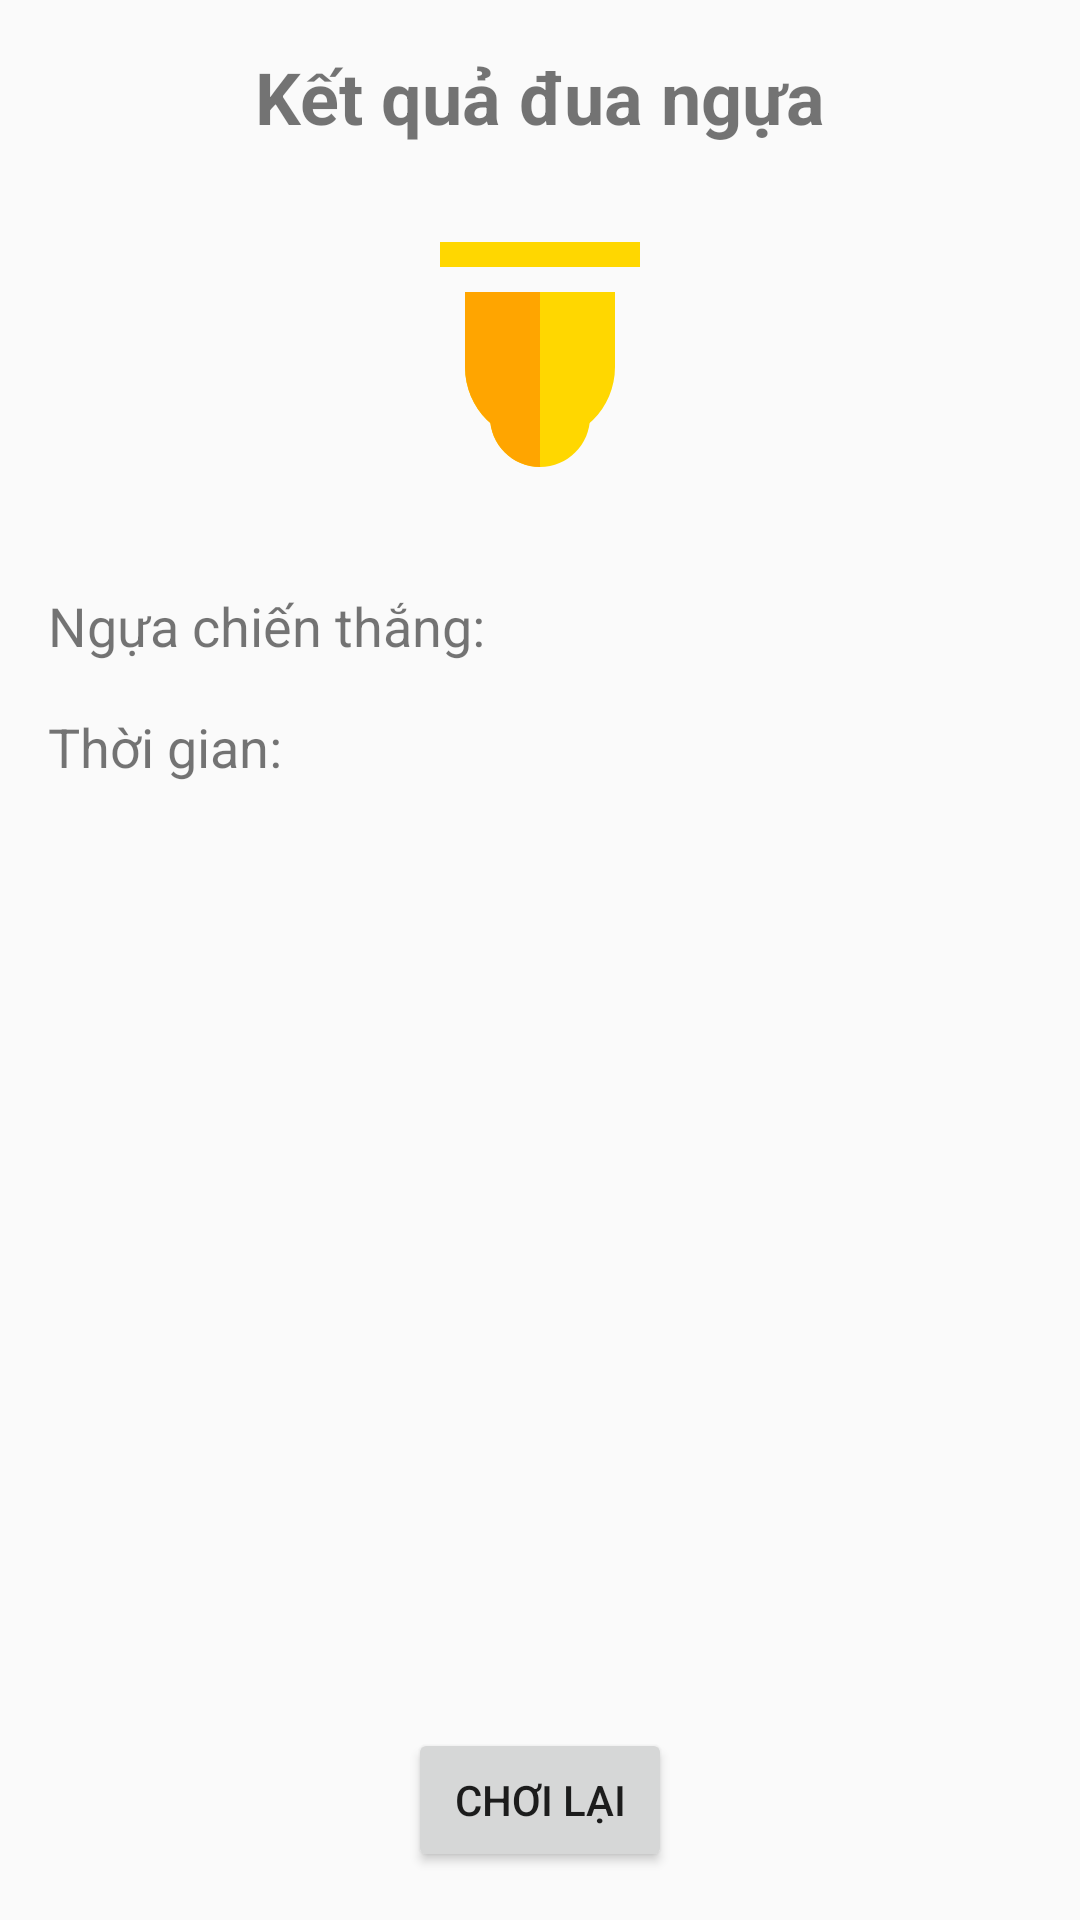

Point at icon controls on the screen. Image size 1080*1920, points as (x=x, y=y).
Cúp chiến thắng: (x=540, y=354)
